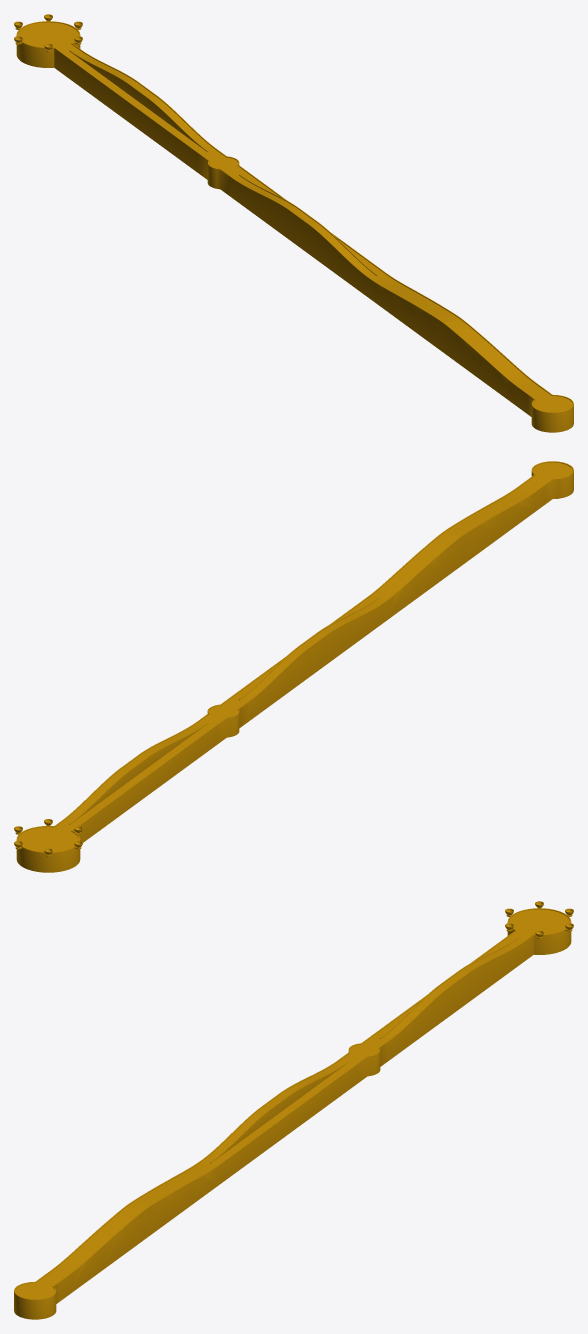
File: convex-mesh.fbx
3 renders of one model, top to bottom at view 1: azimuth 30°, elevation 25°; view 2: azimuth 150°, elevation 25°; view 3: azimuth 330°, elevation 25°, orthographic.
Visible parts, largest first — view 1: roadEnd, road02B, road03B, road04LB, road06LB, roadStart, road10LB, road08LB, road02A, road07, road03A, road04LA (+2 smaller); view 2: roadEnd, road03B, road02B, road06LB, road04LB, road08LB, road03A, road10LB, road07, roadStart, road02A, road10RA (+2 smaller); view 3: roadEnd, road02C, road03C, road10RC, road08RC, roadStart, road04RB, road06RB, road02A, road07, road03A, road08RA (+2 smaller).
Part boxes in pixels (bbox=[...]): roadEnd: bbox=[14, 14, 82, 71]; road02B: bbox=[442, 322, 517, 405]; road03B: bbox=[368, 277, 442, 351]; road04LB: bbox=[304, 221, 368, 297]; road06LB: bbox=[230, 176, 294, 242]; roadStart: bbox=[527, 390, 573, 432]; road10LB: bbox=[60, 52, 124, 118]; road08LB: bbox=[135, 106, 198, 172]; road02A: bbox=[445, 319, 533, 386]; road07: bbox=[198, 149, 248, 196]; road03A: bbox=[370, 274, 459, 322]; road04LA: bbox=[306, 220, 376, 277]; roadEnd: bbox=[14, 819, 82, 872]; road03B: bbox=[386, 536, 460, 620]; road02B: bbox=[460, 491, 535, 565]; road06LB: bbox=[248, 645, 312, 721]; road04LB: bbox=[322, 600, 386, 666]; road08LB: bbox=[153, 725, 216, 790]; road03A: bbox=[369, 533, 458, 600]; road10LB: bbox=[78, 779, 142, 842]; road07: bbox=[199, 697, 248, 744]; roadStart: bbox=[528, 461, 573, 503]; road02A: bbox=[444, 488, 533, 536]; road10RA: bbox=[61, 766, 131, 824]; roadEnd: bbox=[505, 901, 573, 958]; road02C: bbox=[70, 1209, 145, 1292]; road03C: bbox=[145, 1164, 219, 1238]; road10RC: bbox=[463, 939, 527, 1005]; road08RC: bbox=[389, 984, 452, 1059]; roadStart: bbox=[14, 1277, 60, 1319]; road04RB: bbox=[219, 1118, 283, 1184]; road06RB: bbox=[293, 1063, 357, 1129]; road02A: bbox=[54, 1206, 142, 1273]; road07: bbox=[339, 1036, 389, 1083]; road03A: bbox=[128, 1161, 217, 1209]; road08RA: bbox=[381, 983, 450, 1040].
Bounding box in the file's own units: 368 × 154 × 5012.
